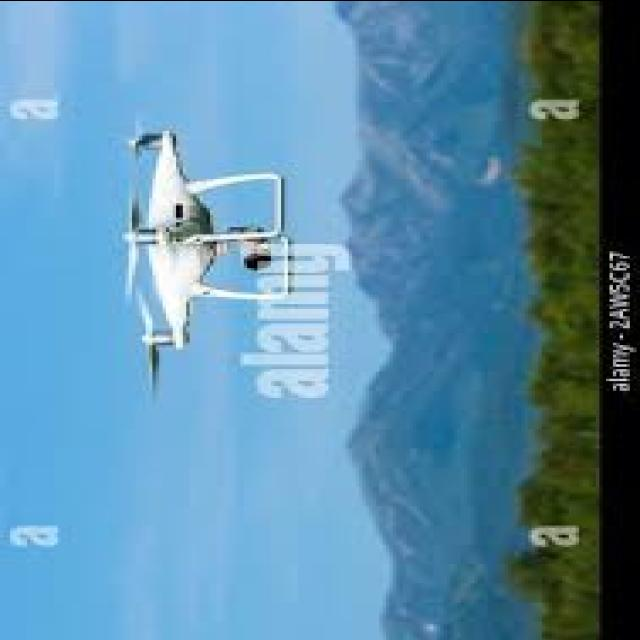drone: (99, 114, 318, 390)
